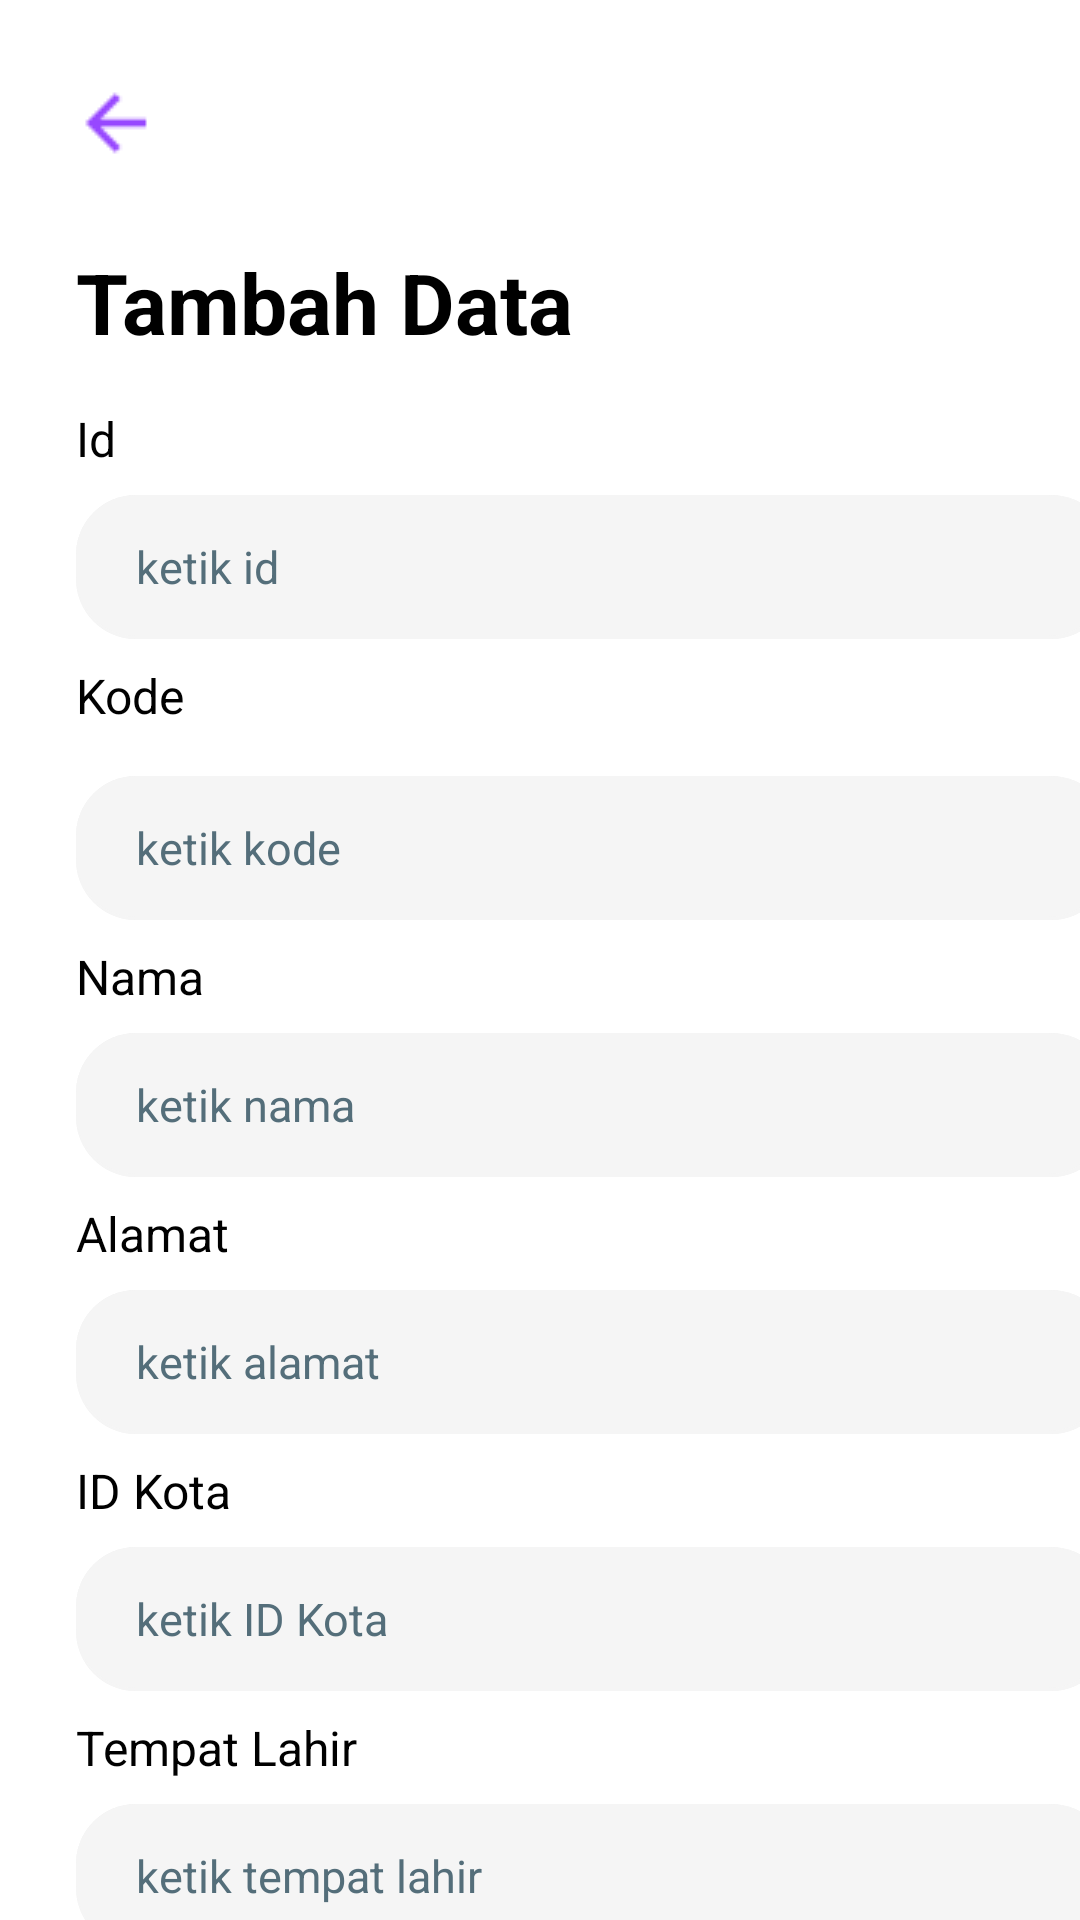

Locate icon controls on the screen. Image size 1080 × 1920, boxes as region(x1, y1, x2, y2).
arrow left: region(85, 92, 147, 154)
